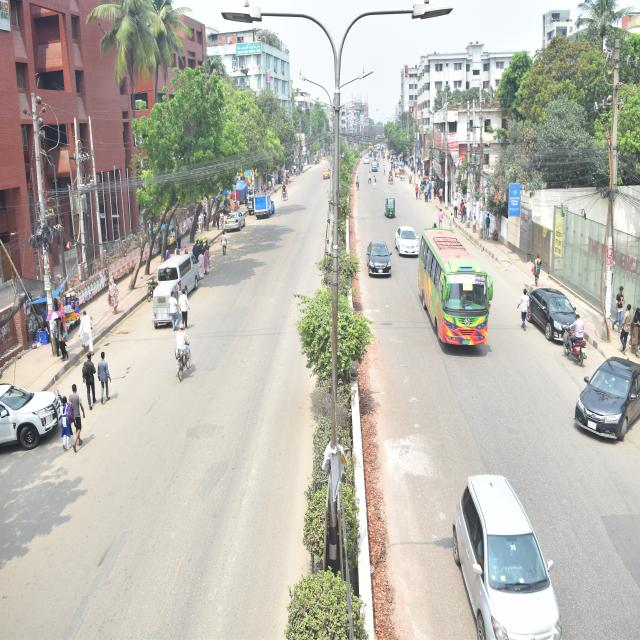bus: (411, 221, 500, 367)
car: (442, 456, 573, 640), (0, 366, 91, 441), (521, 275, 594, 365), (571, 344, 640, 435), (364, 230, 398, 292), (390, 220, 424, 261), (220, 197, 250, 242)
microbus: (155, 249, 211, 302), (315, 165, 335, 186)
motorbike: (560, 319, 592, 370)
pickup-van: (247, 187, 276, 230)
